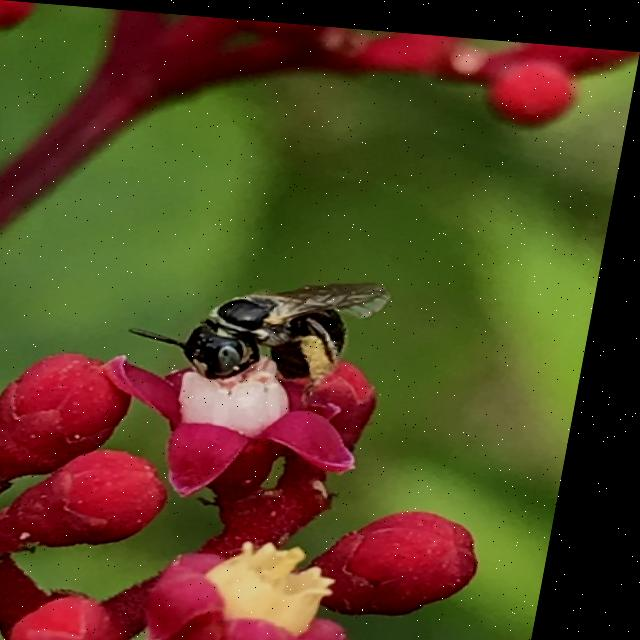Braunsapis: (138, 252, 414, 410)
